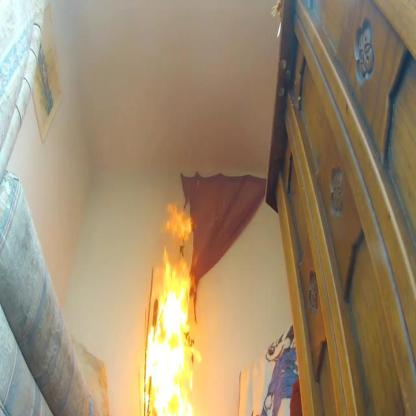fire: (142, 248, 201, 416), (160, 198, 196, 246)
